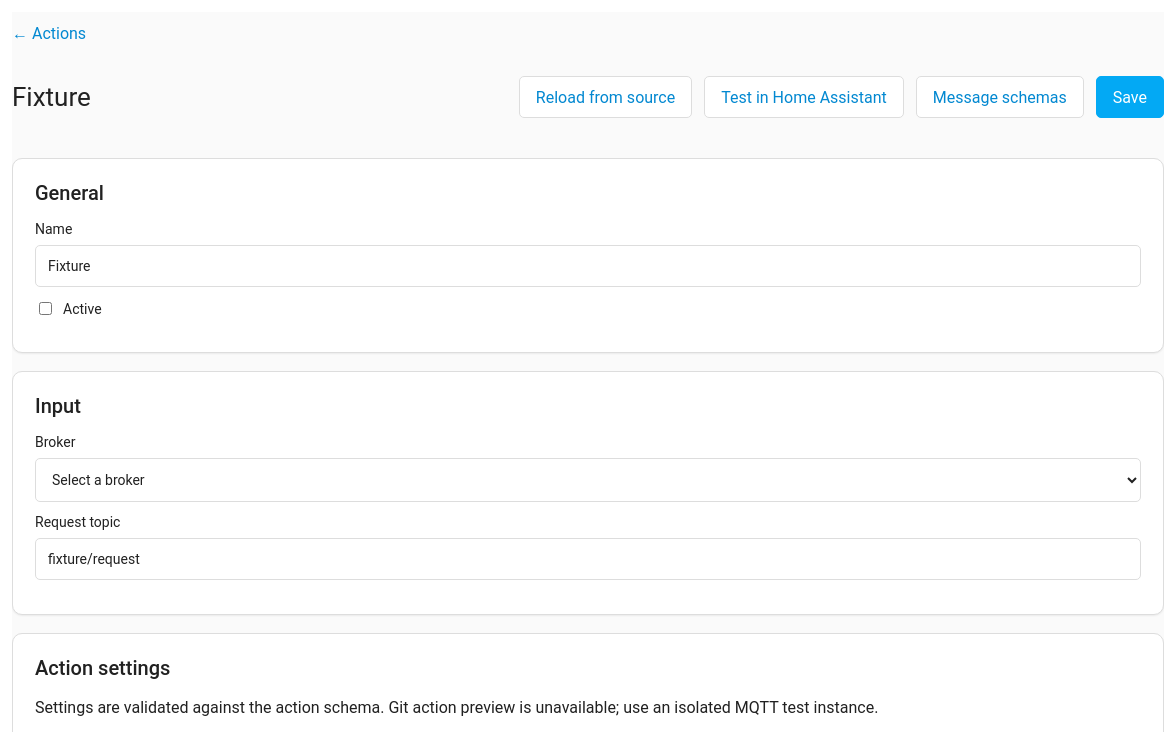
Scenario: Local custom editors › blocks reload with unsaved changes and exposes it only for local sources
This screenshot has width=1176, height=732.
expect the button "Reload from source" is enabled: met, box [519,76,692,118]
Type " changed" into the field labelled "Name".
click(588, 266); type(" changed")  # box [35,245,1141,287]
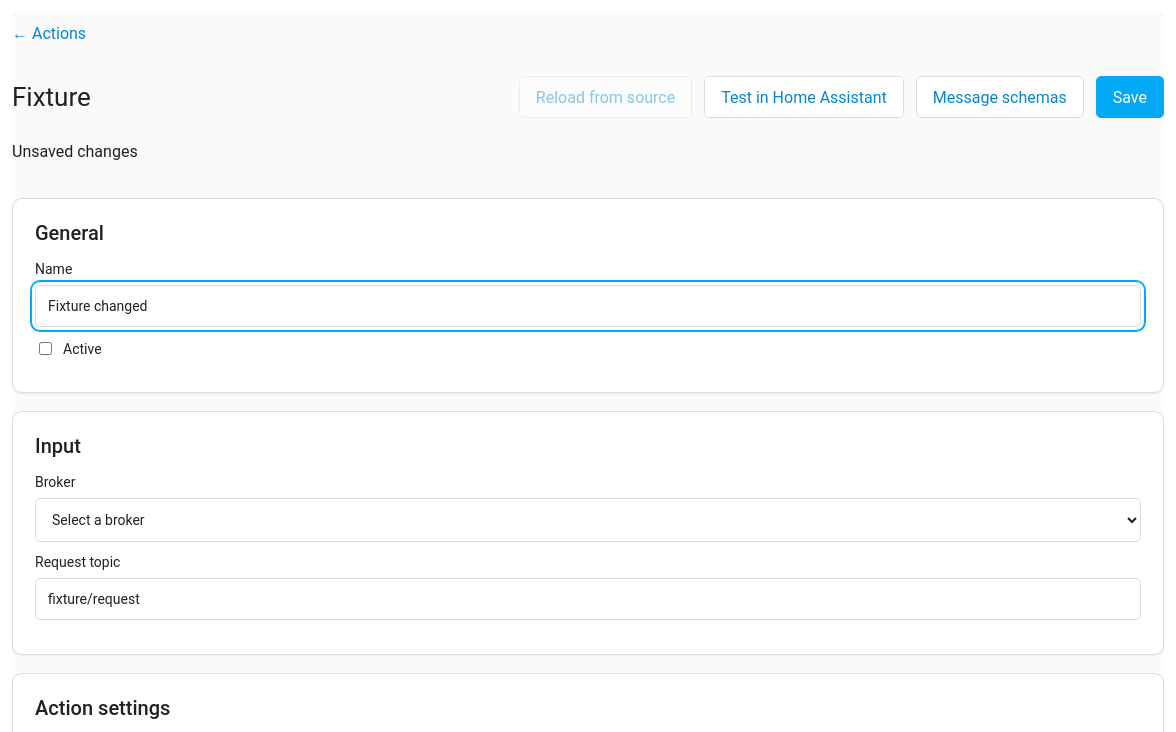
expect the button "Reload from source" is disabled: met, box [519,76,692,118]
